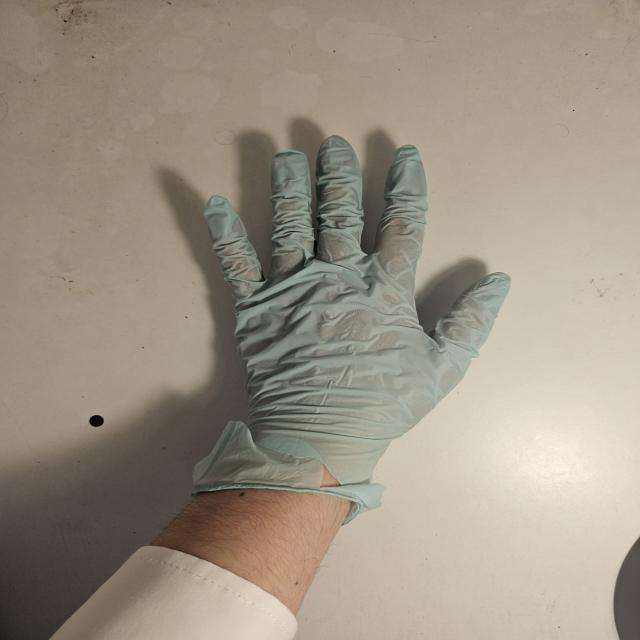gloves_damaged: (185, 136, 513, 526)
